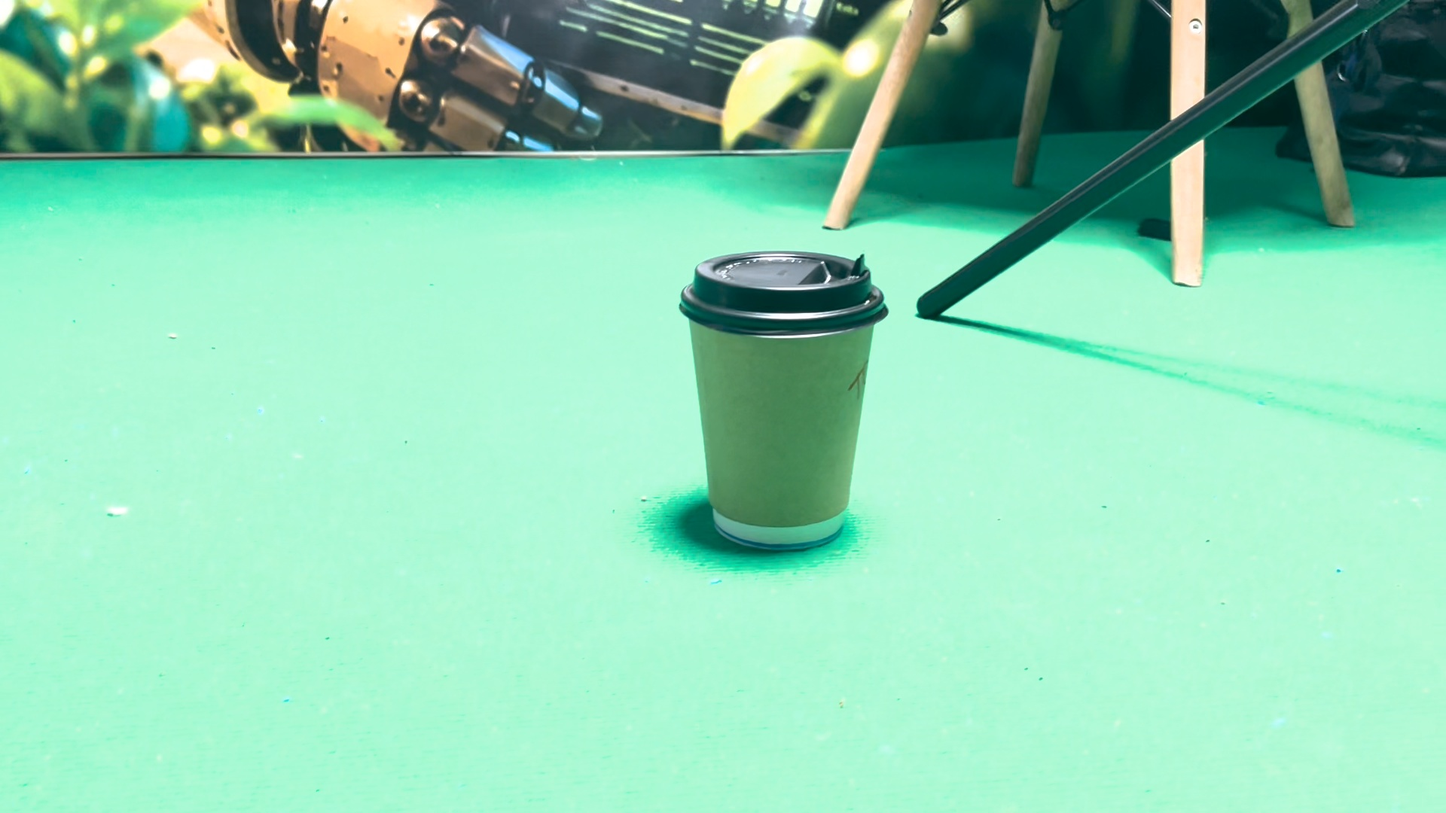cup: (737, 458, 832, 586)
